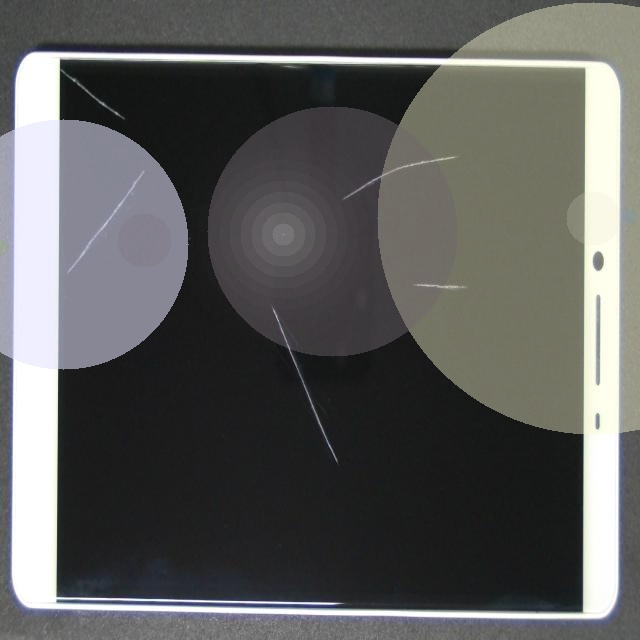scratch: (217, 331, 492, 625), (310, 40, 640, 225), (122, 13, 182, 276), (6, 36, 114, 166)
